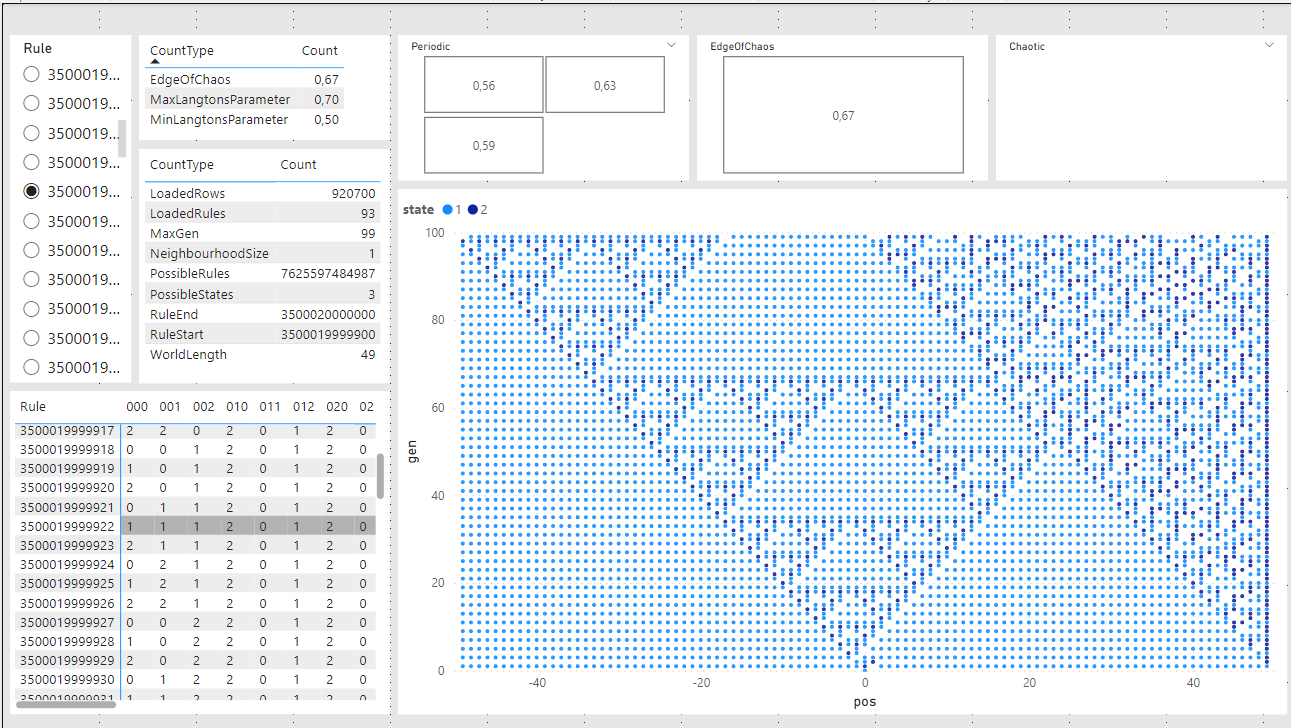

This screenshot's page, from the dashboard's own definition file:
{"tool":"powerbi","page":{"name":"Result","canvas":[1280,720],"ordinal":0},"visuals":[{"type":"scatterChart","fields":{"X":["Sum(NewestWorld.pos)"],"Y":["NewestWorld.gen"],"Series":["NewestWorld.state"]},"box":[392,184,880,520],"z":0},{"type":"slicer","fields":{"Values":["NewestWorld.Rule"]},"box":[8,32,120,344],"z":1000},{"type":"pivotTable","fields":{"Columns":["Rules.Pattern"],"Values":["Min(Rules.NewState)"],"Rows":["Rules.Rule"]},"box":[8,384,376,320],"z":2000},{"type":"slicer","fields":{"Values":["Dic Rules.LangtonsParameter"]},"box":[392,32,288,144],"z":3000},{"type":"slicer","fields":{"Values":["Dic Rules.LangtonsParameter"]},"box":[688,32,288,144],"z":4000},{"type":"slicer","fields":{"Values":["Dic Rules.LangtonsParameter"]},"box":[984,32,288,144],"z":5000},{"type":"tableEx","fields":{"Values":["Stats.CountType","Stats.Count"]},"box":[136,32,248,104],"z":6000},{"type":"tableEx","fields":{"Values":["Stats.CountType","Stats.CountWhole"]},"box":[136,144,248,232],"z":7000}]}

Visuals, with their boxes on the page's 1280x720 design canvas (x1, y1, x2, y2). These are canvas units, not pixel positions in the 1291x728 screenshot, which may show the page scaled, cropped or inside an application window:
scatterChart - Sum(NewestWorld.pos) x NewestWorld.gen: box=[392, 184, 1272, 704]
slicer - NewestWorld.Rule: box=[8, 32, 128, 376]
pivotTable - Rules.Pattern x Min(Rules.NewState): box=[8, 384, 384, 704]
slicer - Dic Rules.LangtonsParameter: box=[392, 32, 680, 176]
slicer - Dic Rules.LangtonsParameter: box=[688, 32, 976, 176]
slicer - Dic Rules.LangtonsParameter: box=[984, 32, 1272, 176]
tableEx - Stats.CountType x Stats.Count: box=[136, 32, 384, 136]
tableEx - Stats.CountType x Stats.CountWhole: box=[136, 144, 384, 376]
